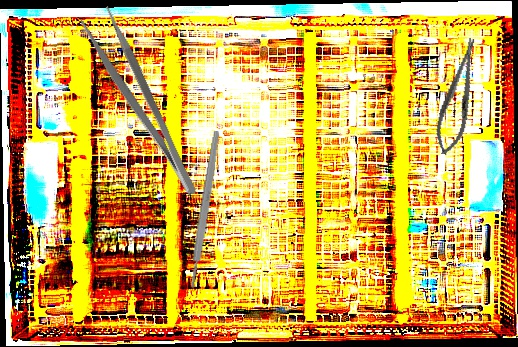Dressing Forceps: (78, 4, 202, 206)
Needle Holder: (430, 35, 487, 158)
Scalpel Handle: (187, 130, 222, 289)
